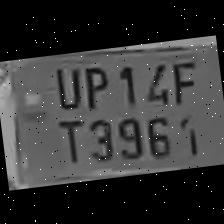1: (108, 55, 140, 108), (172, 107, 202, 157)
3: (80, 111, 116, 163)
4: (134, 55, 171, 107)
6: (140, 108, 174, 160)
9: (110, 110, 144, 160)
F: (164, 48, 200, 102)
P: (75, 58, 112, 110)
T: (50, 112, 86, 167)
U: (46, 60, 82, 110)
